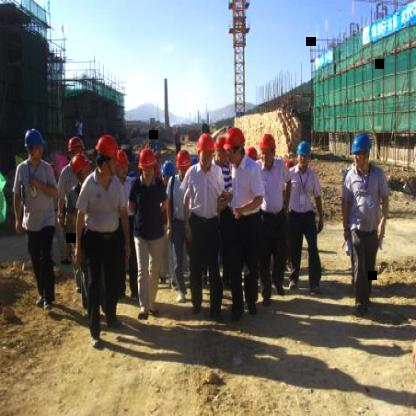helmet: (347, 129, 378, 161), (67, 148, 93, 181), (172, 146, 198, 174), (95, 134, 121, 161), (224, 126, 250, 152), (21, 130, 47, 156), (137, 148, 163, 174), (255, 130, 281, 156), (195, 129, 216, 160), (294, 137, 314, 161)
